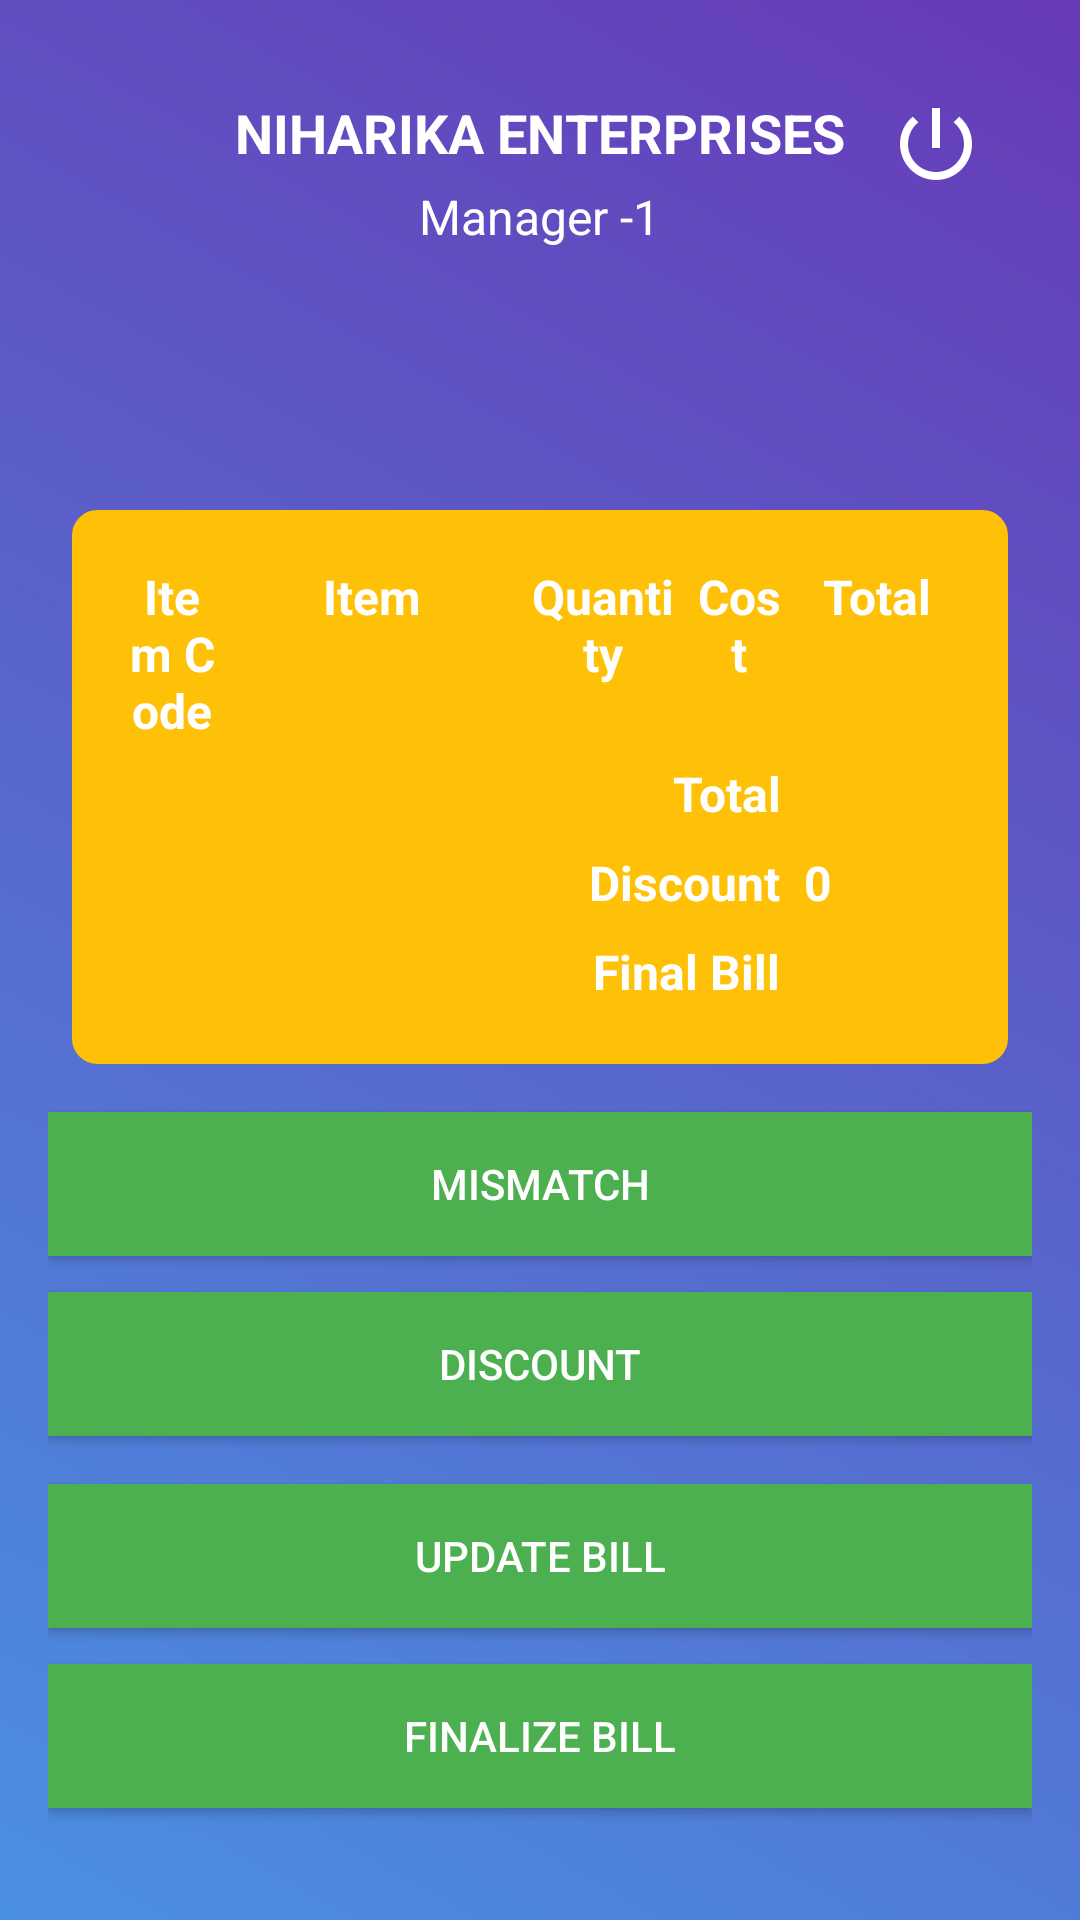

Named icons in this screenshot (1080 x 1920) and their centers, [x,y]:
power: [936,144]
